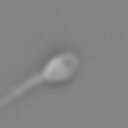normal: (1, 73, 43, 108)
